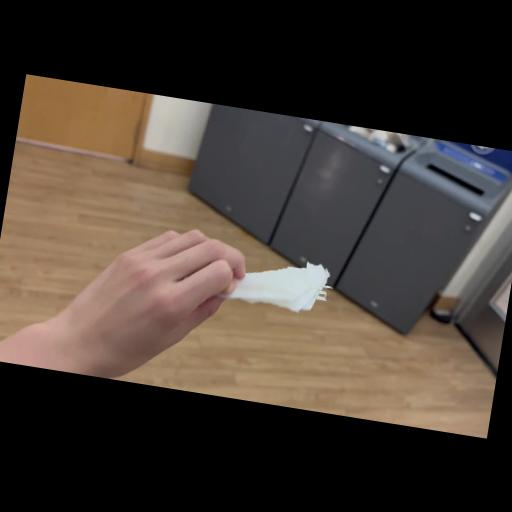napkin: (207, 246, 333, 316)
